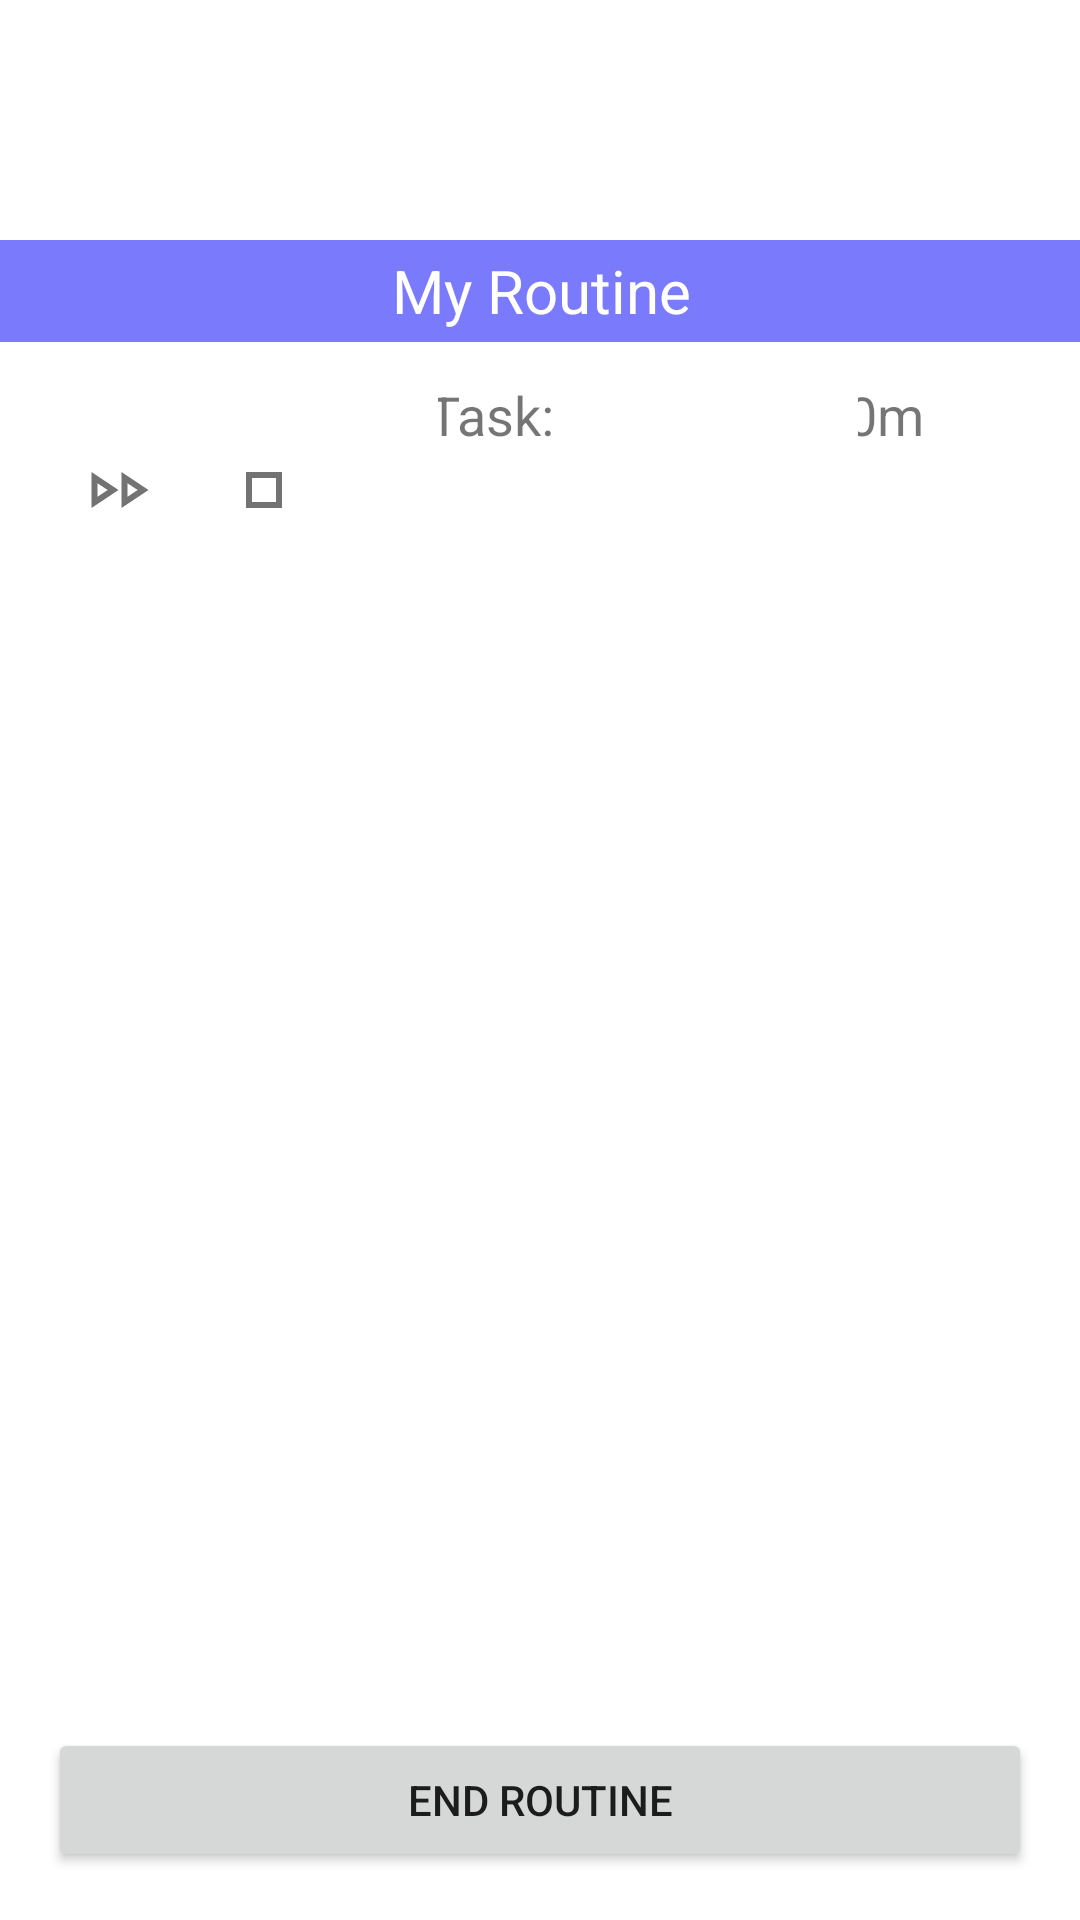

Icons on this 1080w x 1920h Android screen, each with its box as BBox(x1, y1, x2, y2):
ffbutton: BBox(91, 472, 148, 508)
stopbutton: BBox(246, 472, 282, 508)
